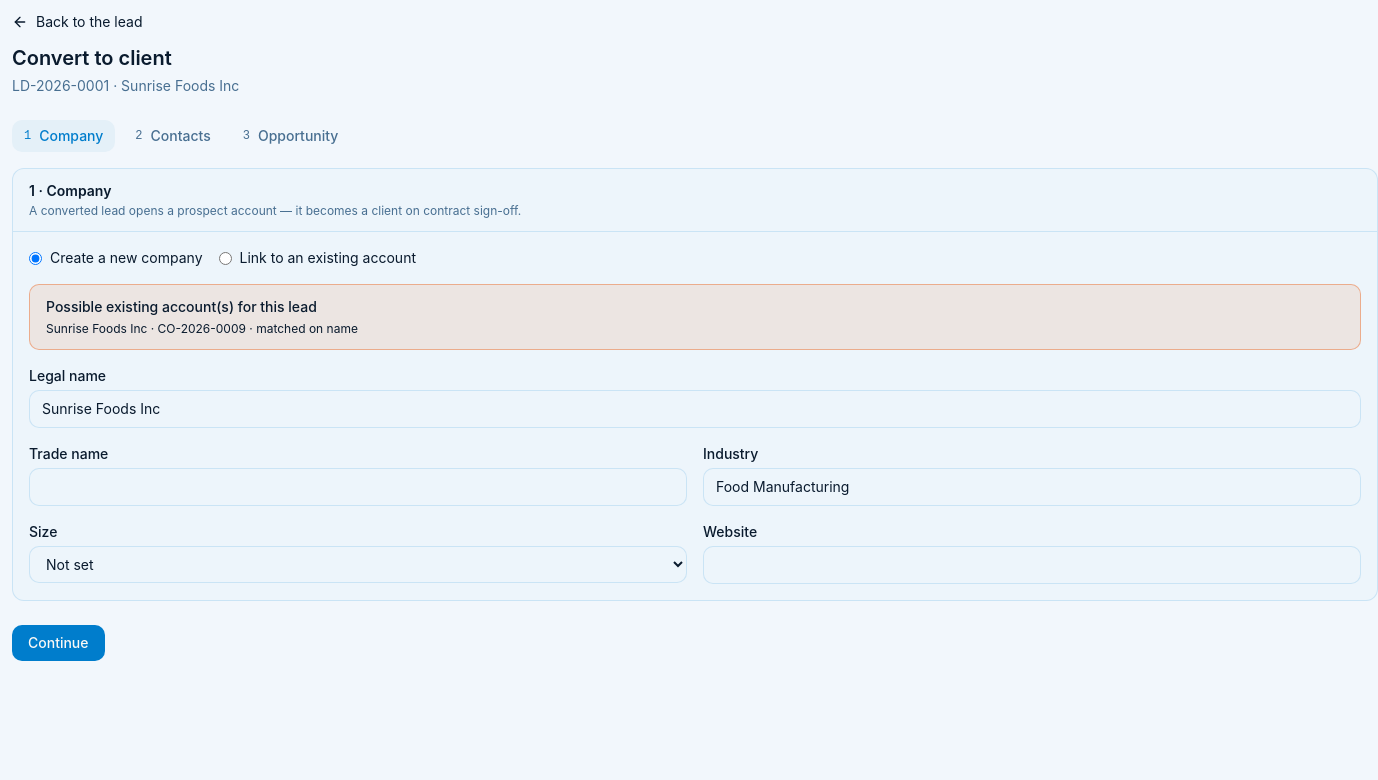
LeadConversion wizard › prefills the mapping from the lead and warns about a possible existing account
Expected: the field labelled "Legal name" holds "Sunrise Foods Inc", [29,390,1361,428]
Expected: the field labelled "Industry" holds "Food Manufacturing", [703,468,1361,506]
What coordinates should you click on to do the following:
click the button "Continue"
I would click on:
 (58, 643)
Its box is [12,625,104,661].
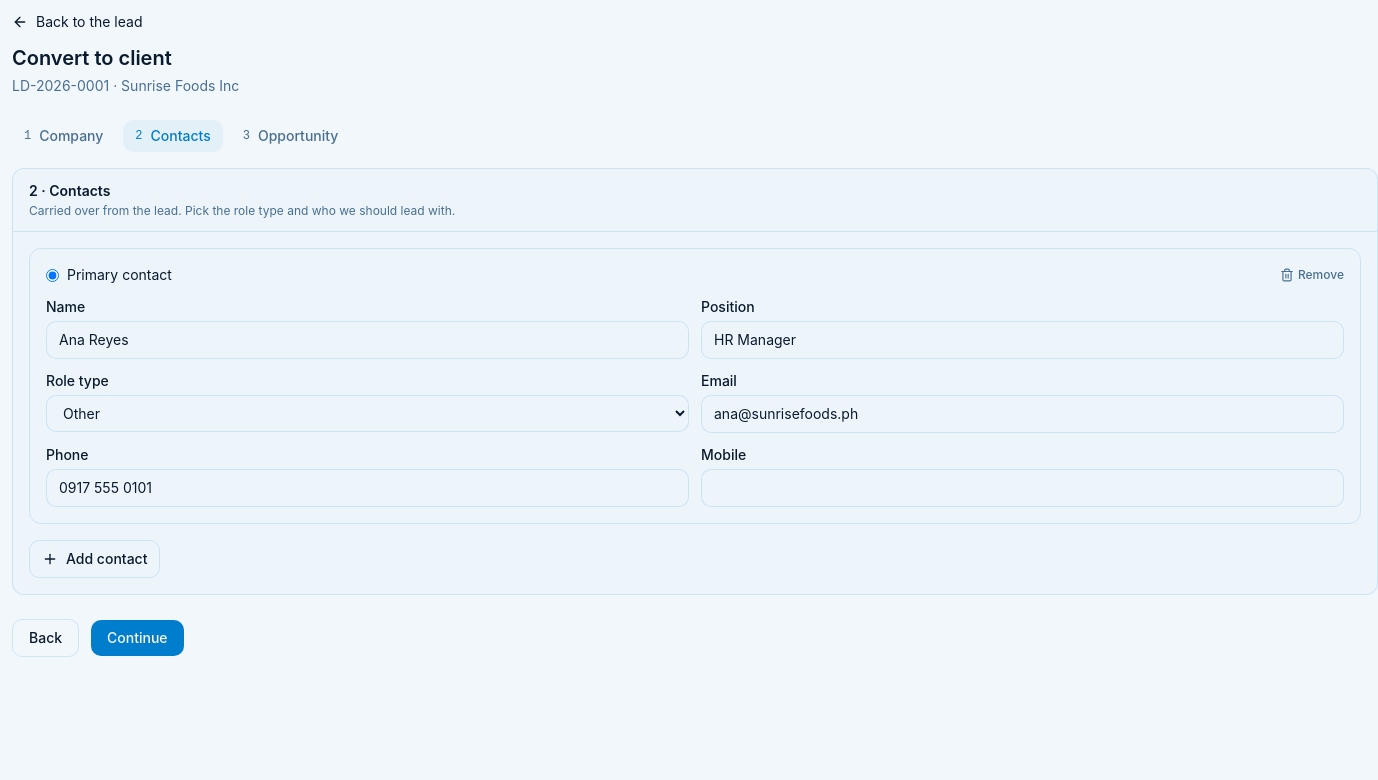
Result: the field showing "Ana Reyes" is shown at [46,321,689,359]
Result: the dropdown labelled "Role type" shows "Other" at [46,395,689,432]
